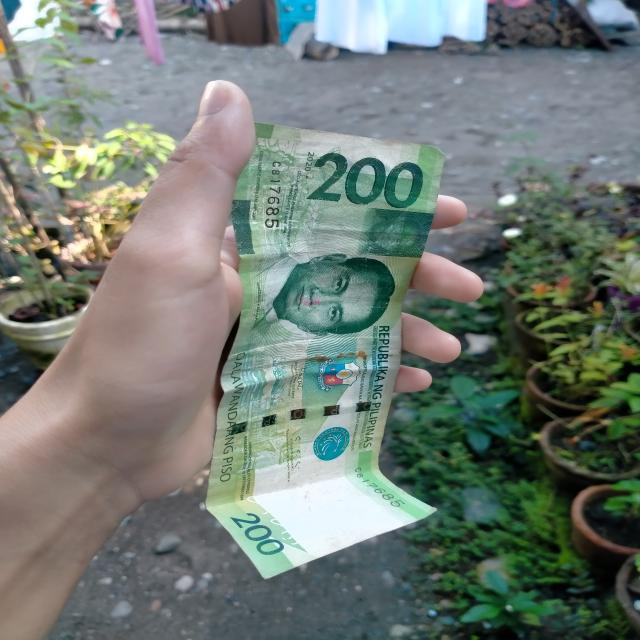concealed_value: (357, 206, 429, 258)
security_thread: (219, 400, 391, 434)
see_through_mark: (238, 483, 308, 551)
serial_number: (342, 462, 412, 515), (264, 159, 286, 231)
value: (295, 152, 421, 213)
